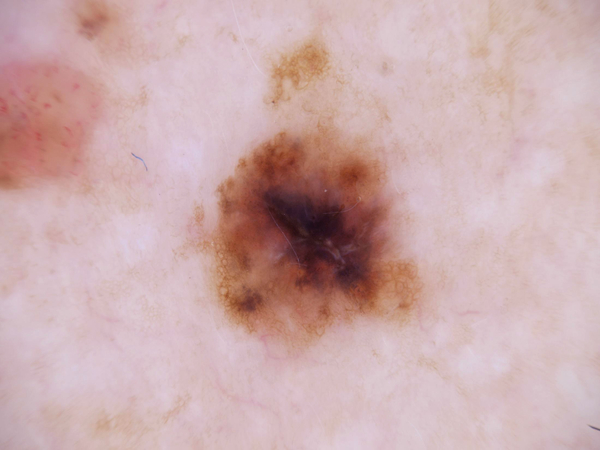Detected Lesion: (182, 120, 426, 356)
